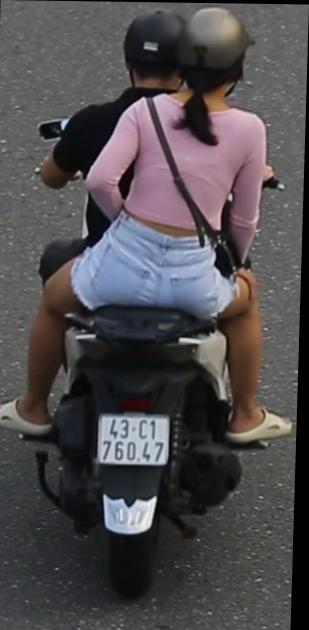LP: (95, 405, 175, 469)
helmet: (170, 5, 254, 104)
